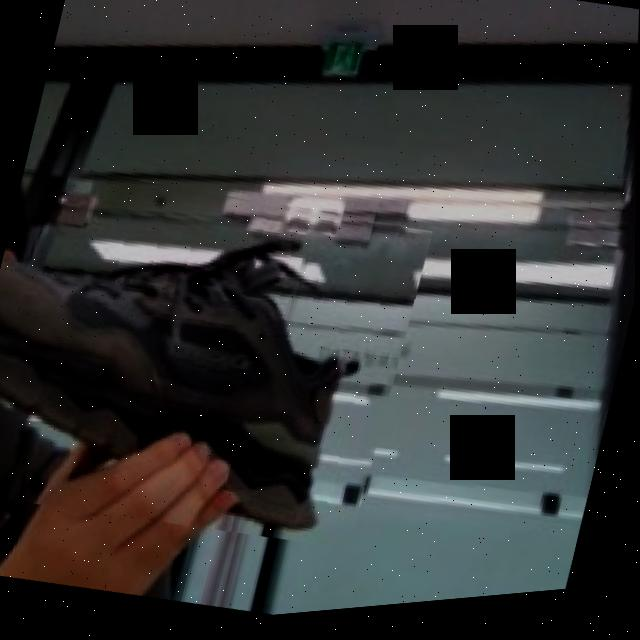shoe: (0, 132, 437, 581)
